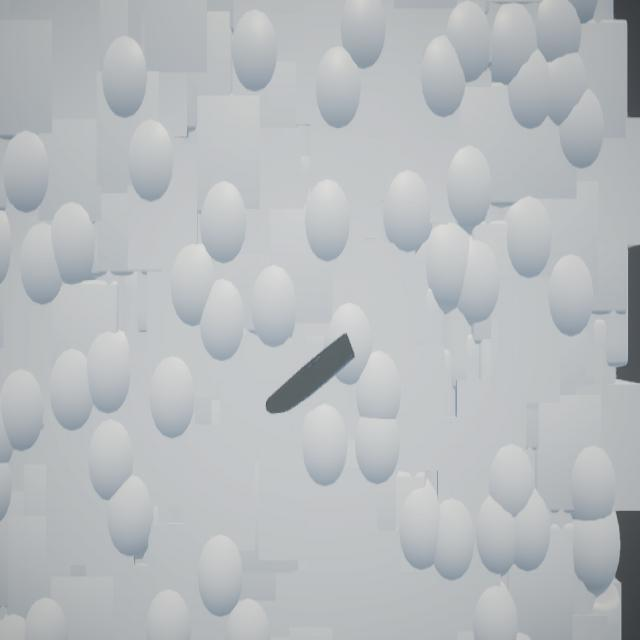top_knife: (266, 333, 356, 415)
